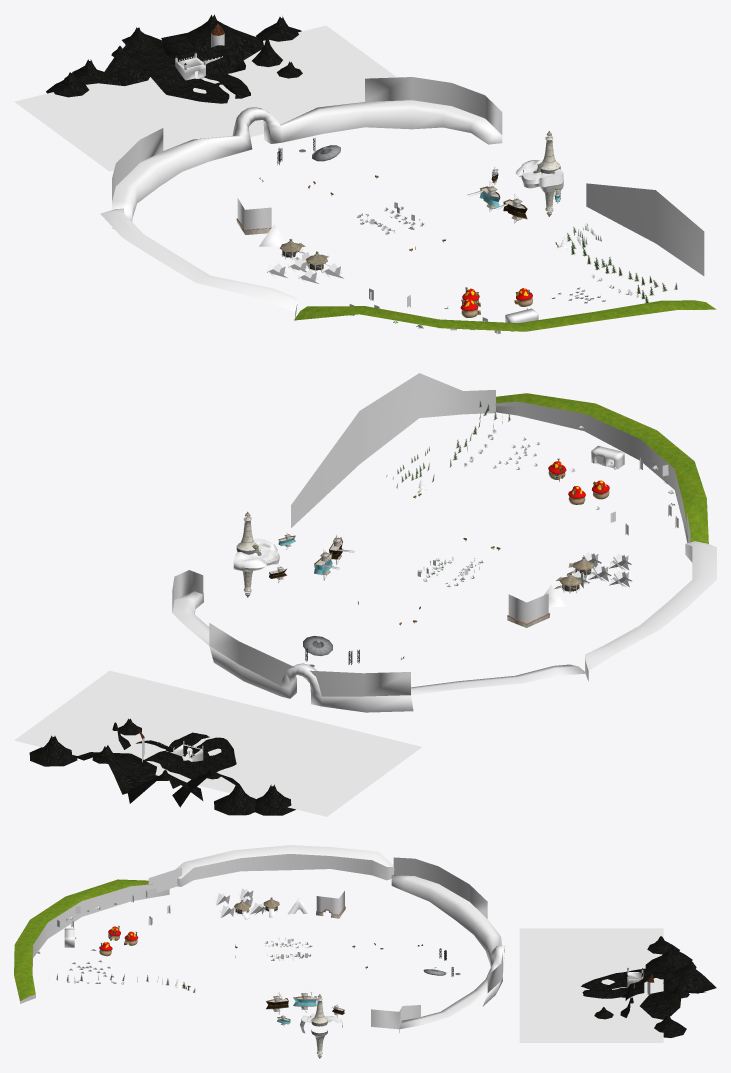
The model's file is overworld_track.glb.
3 views of the same model, one above another, from view 1: azimuth 30°, elevation 25°; view 2: azimuth 150°, elevation 25°; view 3: azimuth 270°, elevation 25° (orthographic). The views are drawn at different scales.
Parts seen in each view (by area): view 1: gfx_distord_AlphaTested.png__, rock_grey.jpg__, transparence2.png__, blackrock.jpg__, grass2.jpg__, sand2.jpg__, city_grass.png__, castelwall.jpg__, tree_1Low.png__, house.jpg__, lighthouseWall_diff.png__, rock.jpg__; view 2: gfx_distord_AlphaTested.png__, transparence2.png__, blackrock.jpg__, rock_grey.jpg__, grass2.jpg__, sand2.jpg__, city_grass.png__, city_rock.jpg__, house.jpg__, grass.jpg__; view 3: gfx_distord_AlphaTested.png__, blackrock.jpg__, rock_grey.jpg__, transparence2.png__, canyon.jpg__, grass2.jpg__, sand2.jpg__, city_grass.png__, city_rock.jpg__, house.jpg__, lighthouseWall_diff.png__.
Part boxes in pixels (bbox=[...]): gfx_distord_AlphaTested.png__: bbox=[14, 25, 396, 171]; rock_grey.jpg__: bbox=[112, 100, 502, 228]; transparence2.png__: bbox=[112, 77, 704, 275]; blackrock.jpg__: bbox=[46, 14, 302, 103]; grass2.jpg__: bbox=[294, 300, 716, 331]; sand2.jpg__: bbox=[100, 208, 297, 312]; city_grass.png__: bbox=[267, 206, 638, 330]; castelwall.jpg__: bbox=[175, 33, 224, 80]; tree_1Low.png__: bbox=[567, 223, 677, 303]; house.jpg__: bbox=[460, 287, 532, 317]; lighthouseWall_diff.png__: bbox=[537, 136, 560, 211]; rock.jpg__: bbox=[521, 170, 563, 192]; gfx_distord_AlphaTested.png__: bbox=[14, 670, 421, 816]; transparence2.png__: bbox=[172, 373, 690, 696]; blackrock.jpg__: bbox=[29, 718, 295, 815]; rock_grey.jpg__: bbox=[172, 591, 586, 712]; grass2.jpg__: bbox=[496, 393, 708, 543]; sand2.jpg__: bbox=[585, 541, 716, 670]; city_grass.png__: bbox=[418, 401, 688, 588]; city_rock.jpg__: bbox=[496, 406, 691, 542]; house.jpg__: bbox=[548, 458, 609, 504]; grass.jpg__: bbox=[233, 538, 278, 571]; gfx_distord_AlphaTested.png__: bbox=[519, 928, 663, 1042]; blackrock.jpg__: bbox=[581, 936, 716, 1037]; rock_grey.jpg__: bbox=[391, 875, 505, 1032]; transparence2.png__: bbox=[148, 857, 502, 1029]; canyon.jpg__: bbox=[177, 854, 394, 886]; grass2.jpg__: bbox=[14, 879, 152, 1001]; sand2.jpg__: bbox=[175, 845, 393, 878]; city_grass.png__: bbox=[32, 883, 312, 984]; city_rock.jpg__: bbox=[20, 884, 169, 1003]; house.jpg__: bbox=[99, 926, 138, 956]; lighthouseWall_diff.png__: bbox=[311, 998, 327, 1054].
Size of the model in its own units: 462 by 110 by 869.
Materials: 70 (45 with a texture image).
